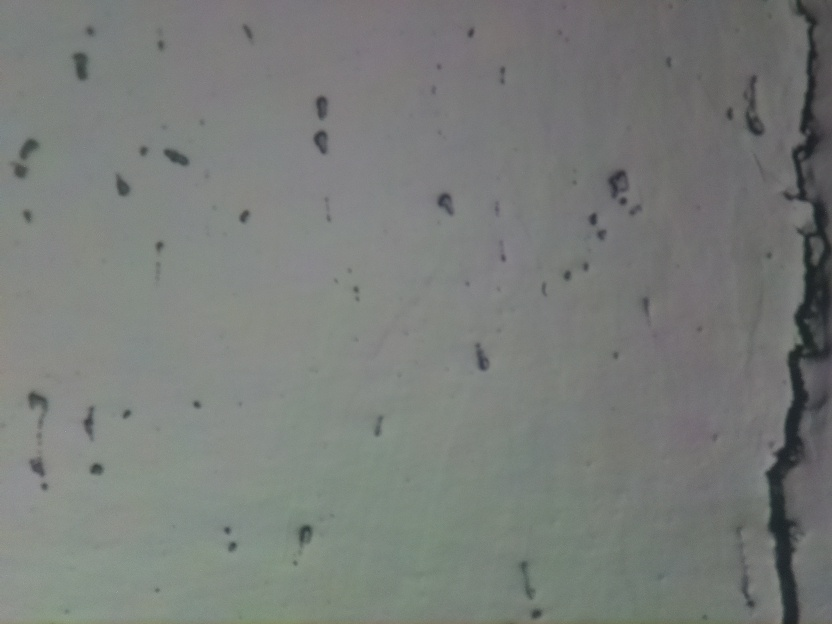crack: (765, 0, 832, 624)
